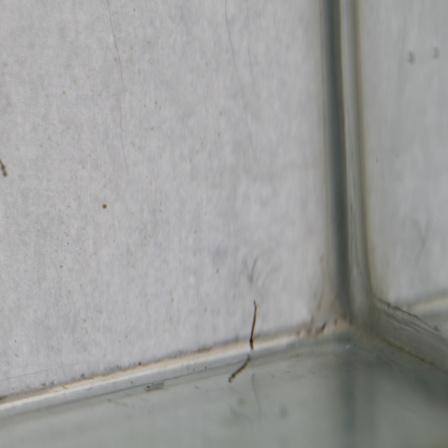Jentik-Nyamuk: (227, 350, 256, 384), (247, 297, 262, 349)
